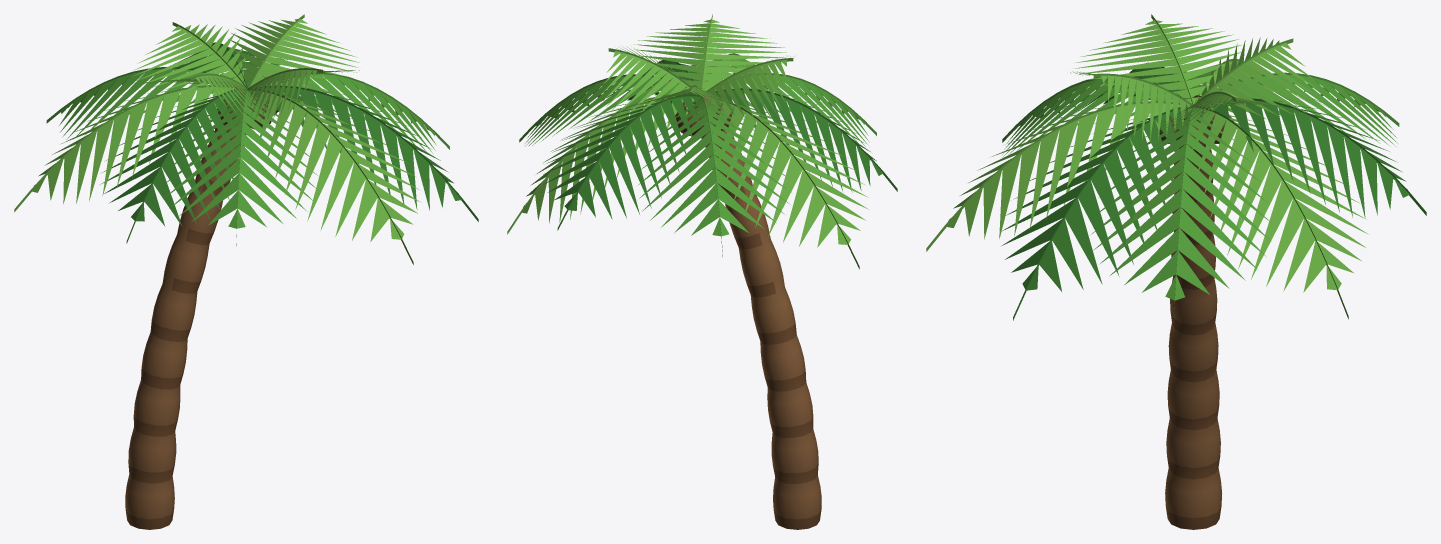
Rendered from palm.glb.
3 renders of one model, left to right at view 1: azimuth 30°, elevation 25°; view 2: azimuth 150°, elevation 25°; view 3: azimuth 270°, elevation 25°, orthographic. The views are drawn at different scales.
Parts seen in each view (by area): view 1: Palm; view 2: Palm; view 3: Palm.
Boxes of the visible parts, bbox=[...] form: Palm: bbox=[14, 14, 478, 529]; Palm: bbox=[507, 14, 897, 529]; Palm: bbox=[926, 14, 1426, 529].
Size of the model in its own units: 0.9558 by 1.05 by 0.9233.
